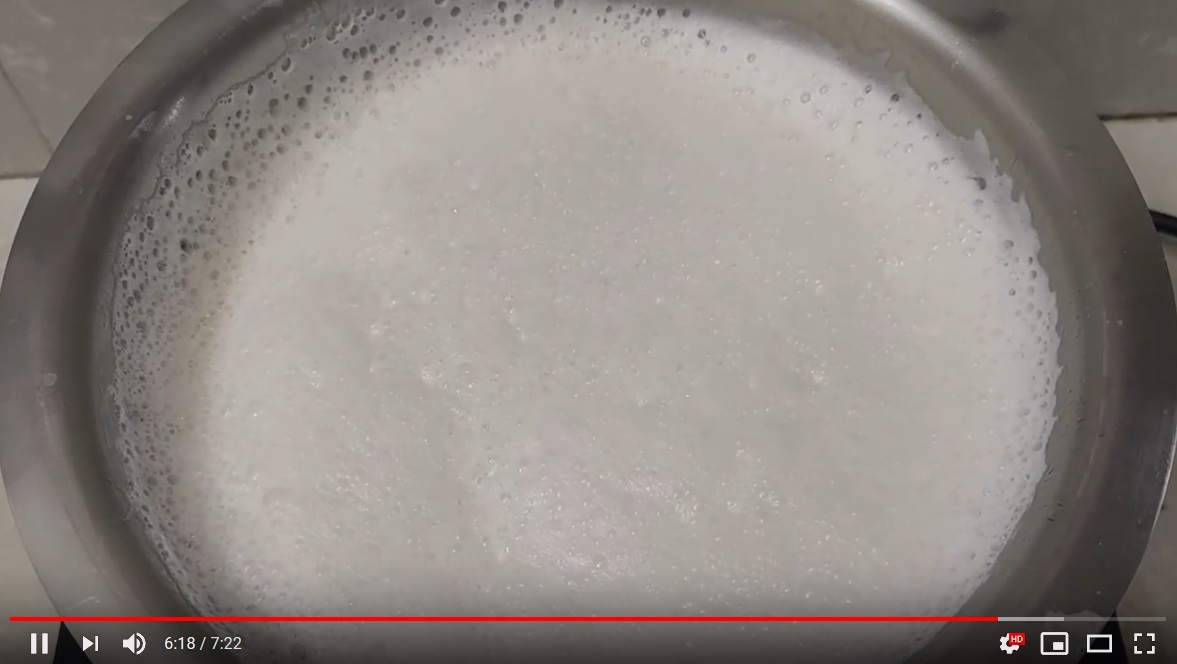Steaming: (116, 23, 1049, 613)
